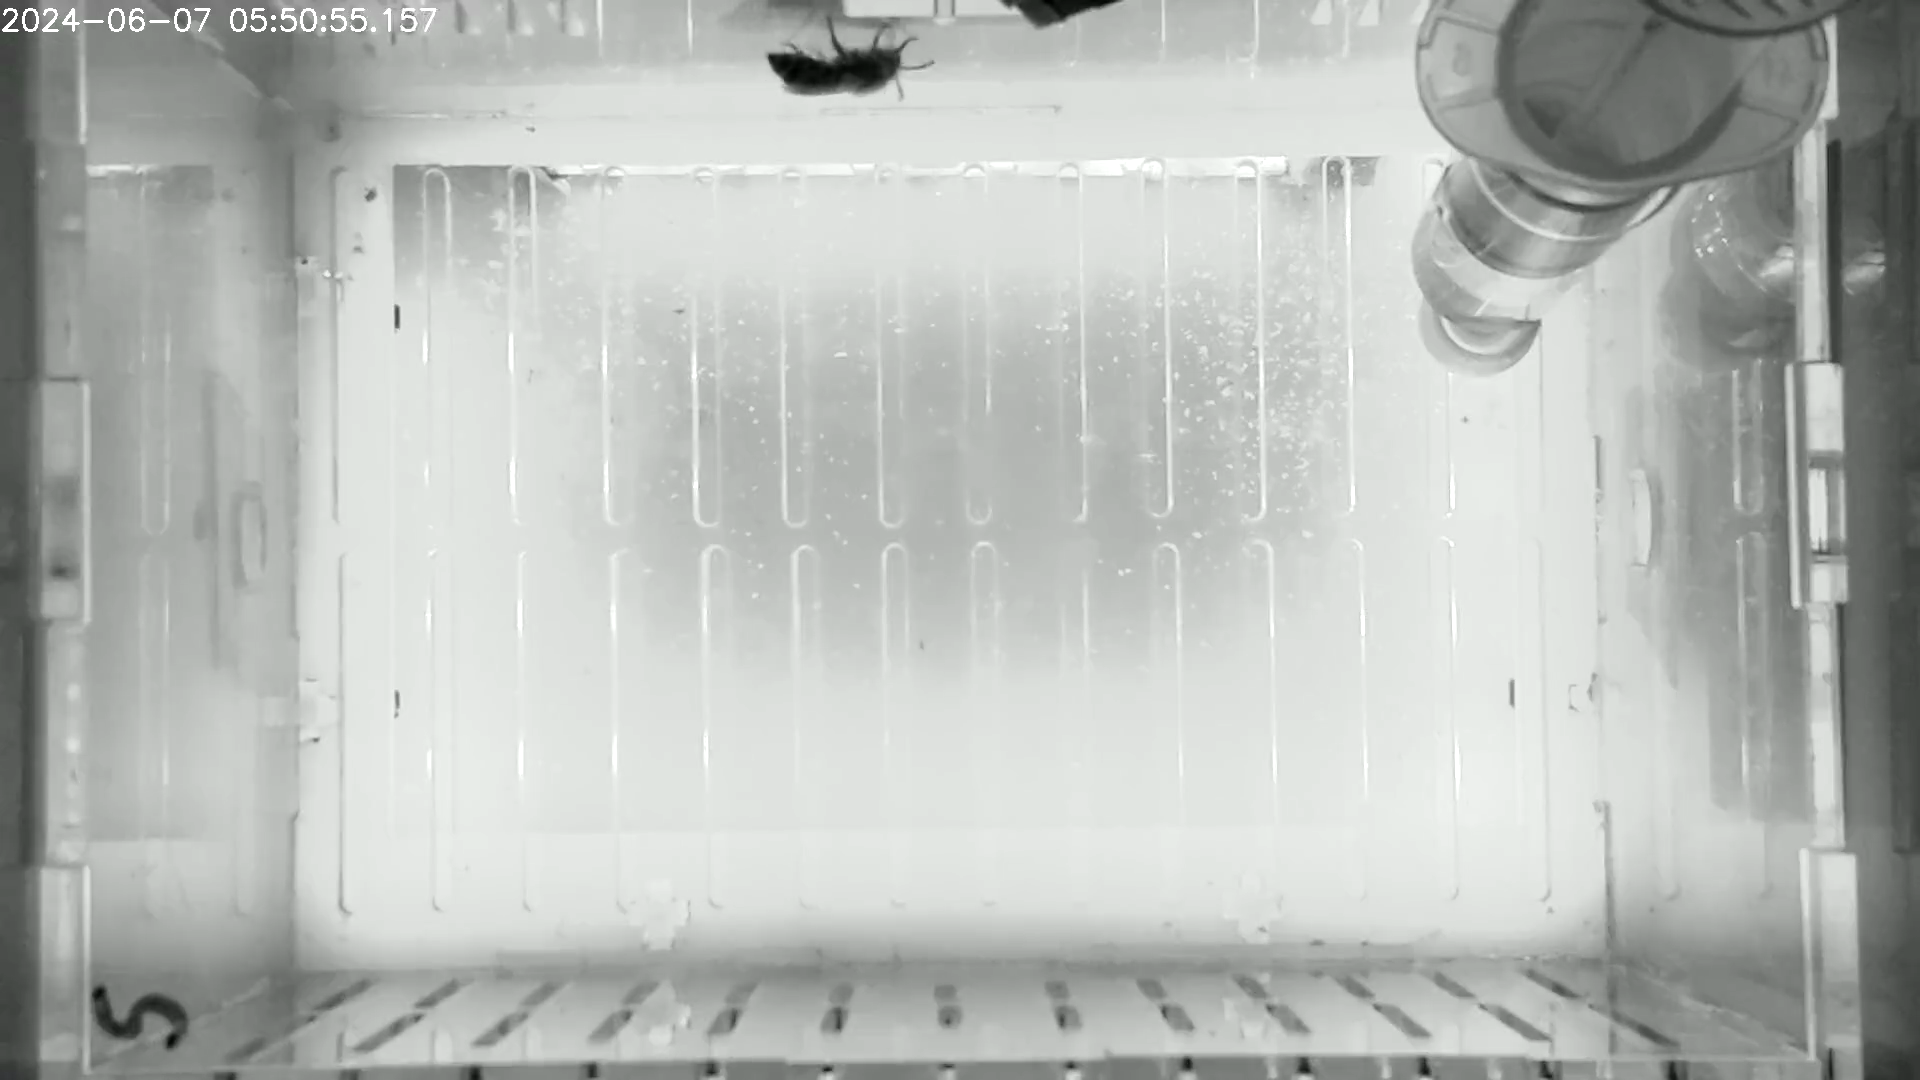bee: (764, 12, 936, 109)
feeder: (1403, 146, 1629, 328)
